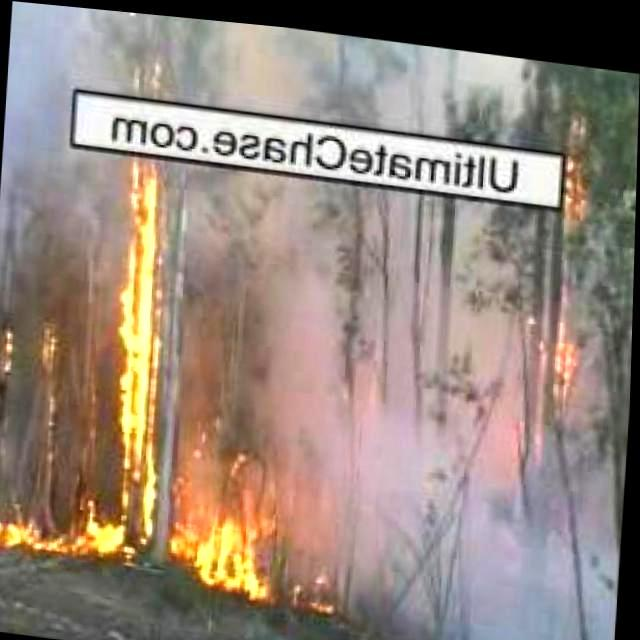fire: (0, 478, 270, 578), (108, 142, 172, 492), (548, 105, 606, 221), (29, 322, 62, 458), (544, 296, 592, 388), (1, 324, 23, 376)
